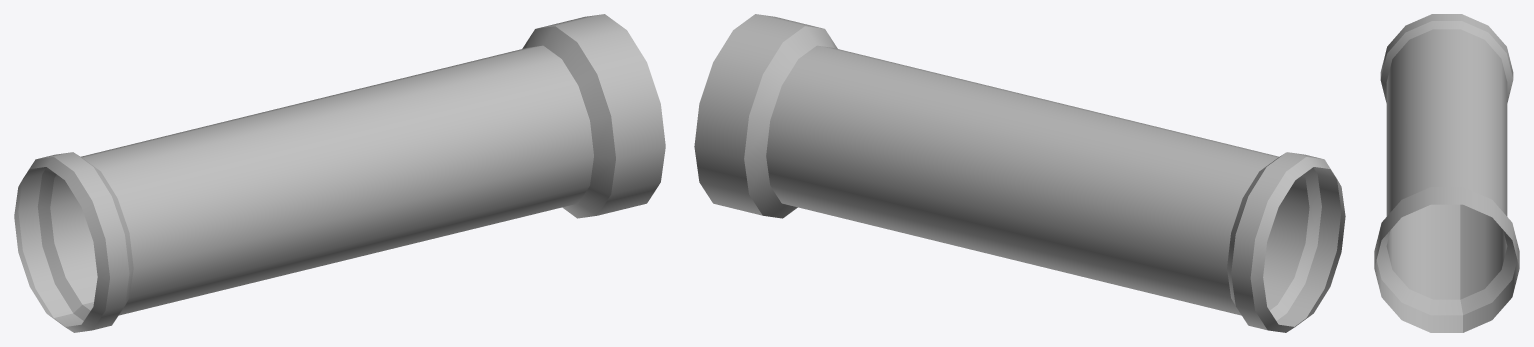
File: KF_SM_Lpipe003.fbx
3 renders of one model, left to right at view 1: azimuth 30°, elevation 25°; view 2: azimuth 150°, elevation 25°; view 3: azimuth 270°, elevation 25°, orthographic. The views are drawn at different scales.
Parts seen in each view (by area): view 1: KF_SM_Lpipe003; view 2: KF_SM_Lpipe003; view 3: KF_SM_Lpipe003.
Boxes of the visible parts, <box> form: KF_SM_Lpipe003: <box>14,14,665,332</box>; KF_SM_Lpipe003: <box>694,14,1345,332</box>; KF_SM_Lpipe003: <box>1374,14,1519,332</box>.
Size of the model in its own units: 1889 by 568 by 582.
